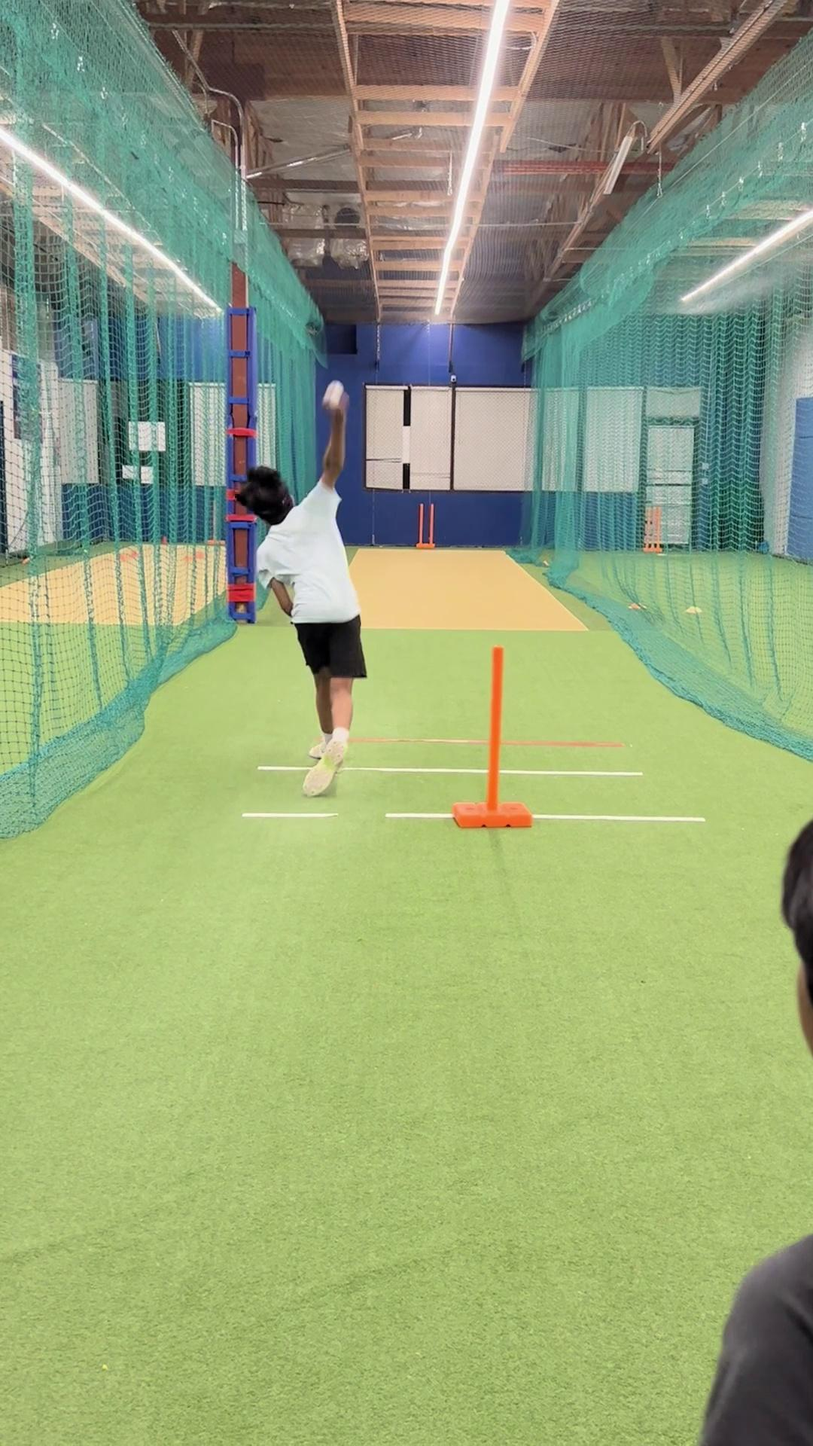ball: (320, 379, 348, 412)
